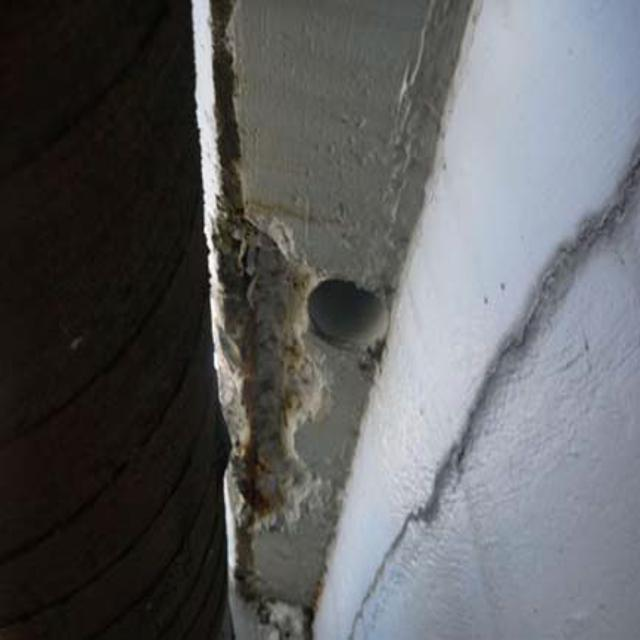spalling: (190, 194, 329, 556)
